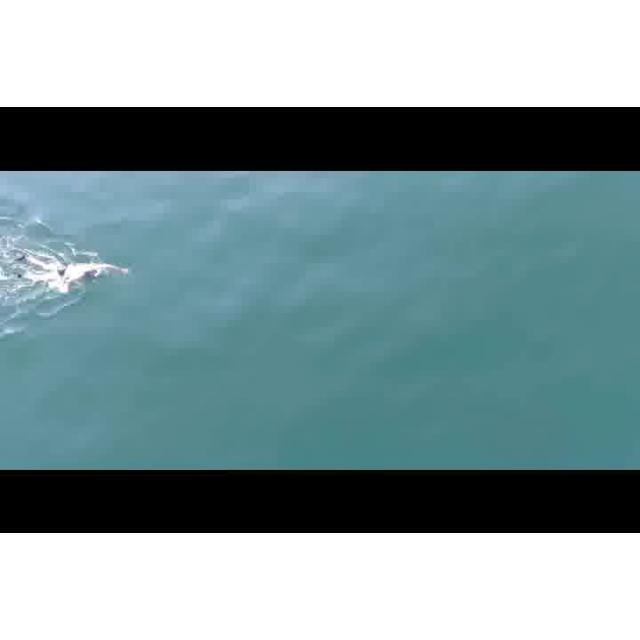human: (15, 259, 129, 293)
